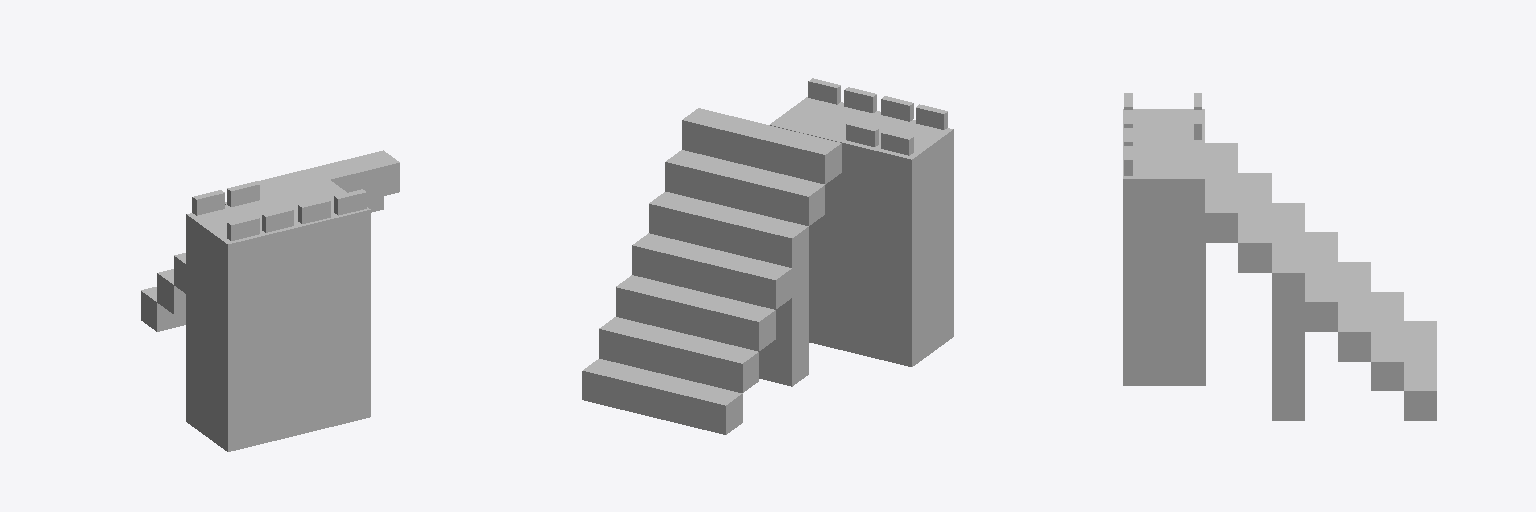
File: full_wall3.obj
The picture shows the model from 3 angles: view 1: azimuth 30°, elevation 25°; view 2: azimuth 150°, elevation 25°; view 3: azimuth 270°, elevation 25°; orthographic projection.
Parts seen in each view (by area): view 1: Standard, Middle, Stairs; view 2: Stairs, Standard, Middle; view 3: Stairs, Middle, Standard.
Part boxes in pixels (left/top/right/bottom): Standard: left=186, top=181, right=299, bottom=451; Middle: left=260, top=179, right=370, bottom=434; Stairs: left=141, top=150, right=399, bottom=331; Stairs: left=582, top=108, right=841, bottom=434; Standard: left=841, top=96, right=953, bottom=366; Middle: left=770, top=78, right=880, bottom=349; Stairs: left=1205, top=143, right=1436, bottom=420; Middle: left=1123, top=128, right=1205, bottom=385; Standard: left=1123, top=93, right=1204, bottom=143.
Size of the model in its own units: 149 by 150 by 190.